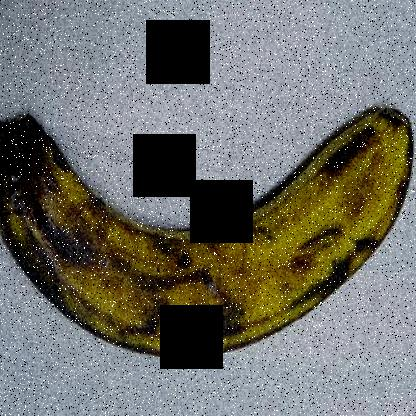overripe: (1, 73, 395, 387)
rotten: (1, 108, 110, 286)
